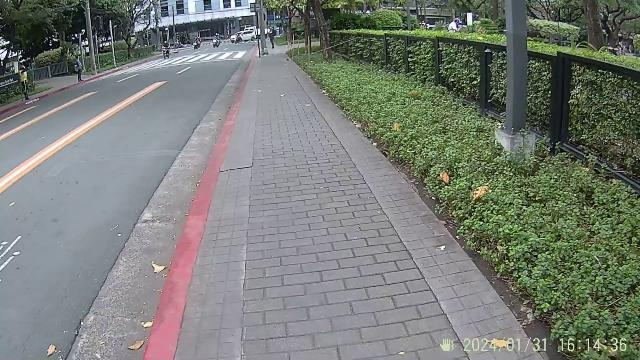street_sign: (83, 0, 99, 76)
